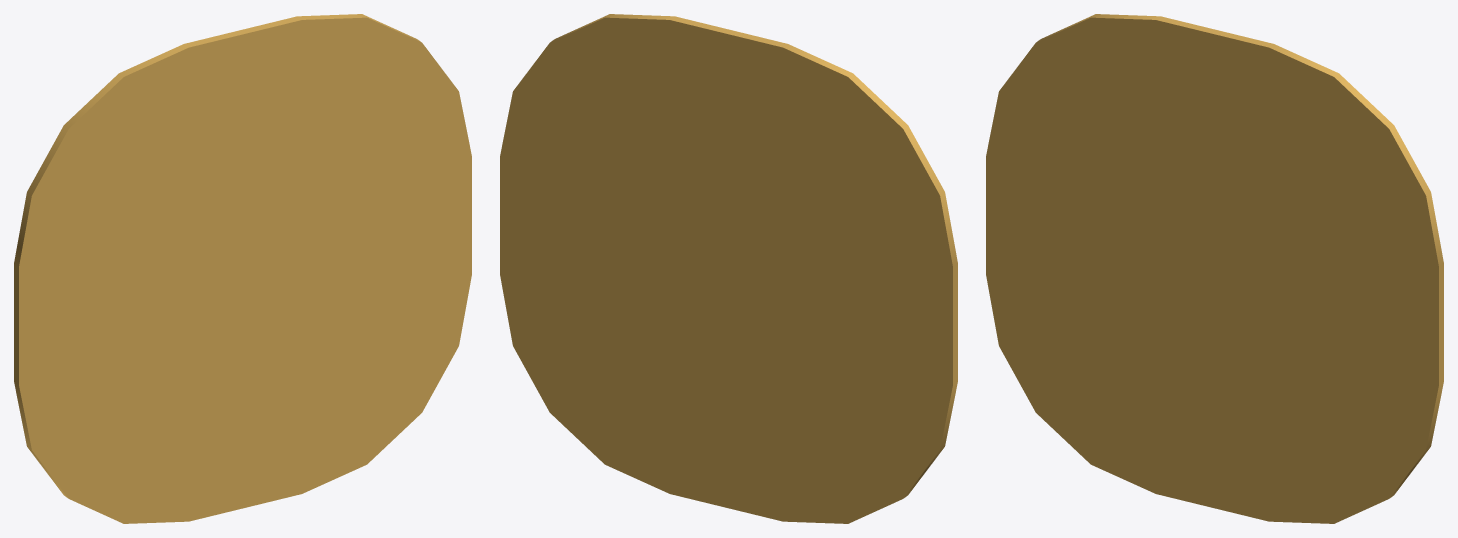
File: Base lower.gltf
3 views of the same model, side by side, from view 1: azimuth 30°, elevation 25°; view 2: azimuth 150°, elevation 25°; view 3: azimuth 330°, elevation 25° (orthographic).
Parts seen in each view (by area): view 1: mesh82, mesh81, mesh80, mesh84; view 2: mesh83, mesh81, mesh80, mesh84; view 3: mesh82, mesh79, mesh80, mesh78.
Part boxes in pixels (x1,y1,x2,y2): mesh82: (19, 17, 471, 523); mesh81: (14, 44, 188, 266); mesh80: (184, 16, 301, 47); mesh84: (14, 263, 18, 384); mesh83: (500, 17, 952, 523); mesh81: (783, 44, 957, 266); mesh80: (670, 16, 787, 47); mesh84: (953, 263, 957, 384); mesh82: (986, 17, 1438, 523); mesh79: (1269, 44, 1443, 266); mesh80: (1156, 16, 1273, 47); mesh78: (1439, 263, 1443, 384).
Size of the model in its own units: 0.42 by 0.42 by 0.008.
